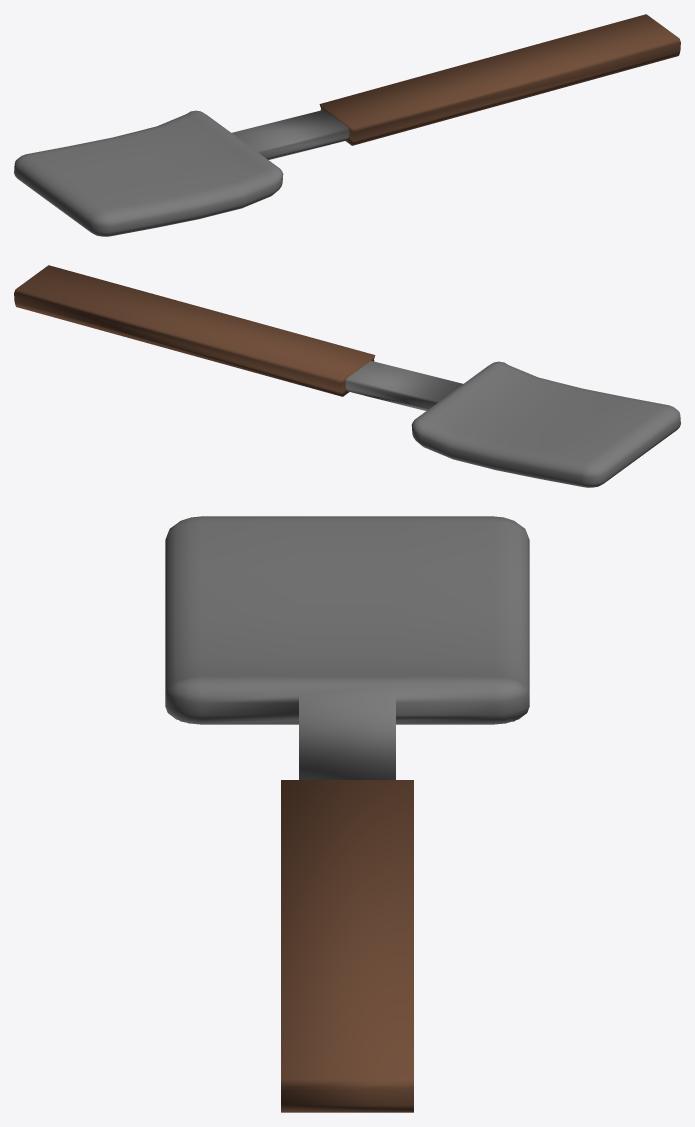
File: MediumSpoon3D.fbx
The picture shows the model from 3 angles, top to bottom: view 1: azimuth 30°, elevation 25°; view 2: azimuth 150°, elevation 25°; view 3: azimuth 270°, elevation 25°; orthographic projection. The views are drawn at different scales.
Visible parts, largest first — view 1: Roundcube; view 2: Roundcube; view 3: Roundcube.
Part boxes in pixels (x1,y1,x2,y2): Roundcube: (14, 14, 680, 236); Roundcube: (14, 265, 680, 487); Roundcube: (165, 516, 529, 1112).
Size of the model in its own units: 776 by 49.1 by 200.
Materials: 1 (1 with a texture image).
